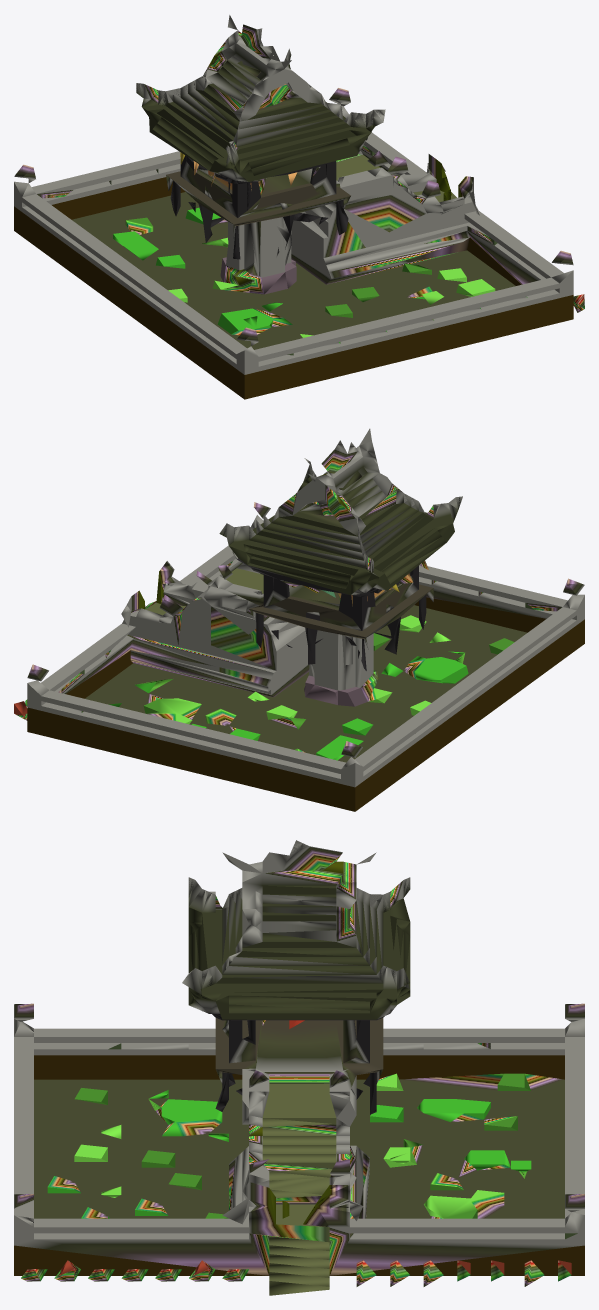
File: chua-mot-cot.glb
The picture shows the model from 3 angles, top to bottom: view 1: azimuth 30°, elevation 25°; view 2: azimuth 150°, elevation 25°; view 3: azimuth 270°, elevation 25°; orthographic projection. The views are drawn at different scales.
Parts seen in each view (by area): view 1: Object_2; view 2: Object_2; view 3: Object_2.
Part boxes in pixels (<box>): Object_2: <box>14,15,584,399</box>; Object_2: <box>14,428,584,811</box>; Object_2: <box>14,840,584,1295</box>.
Size of the model in its own units: 0.9059 by 0.6118 by 1.
1 material, 1 textured.
